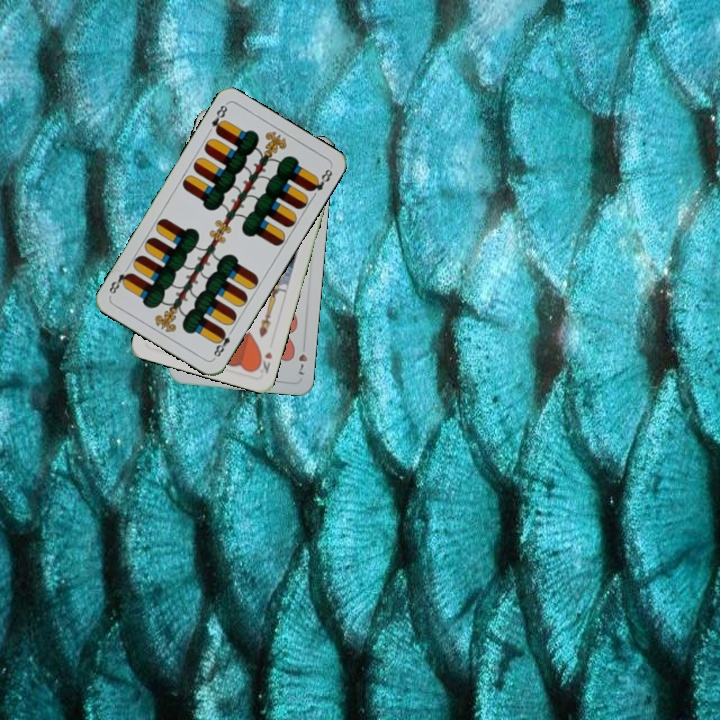E8: (209, 325, 236, 361), (207, 100, 230, 137)
H7: (294, 339, 310, 378)
HK: (253, 348, 275, 376)
